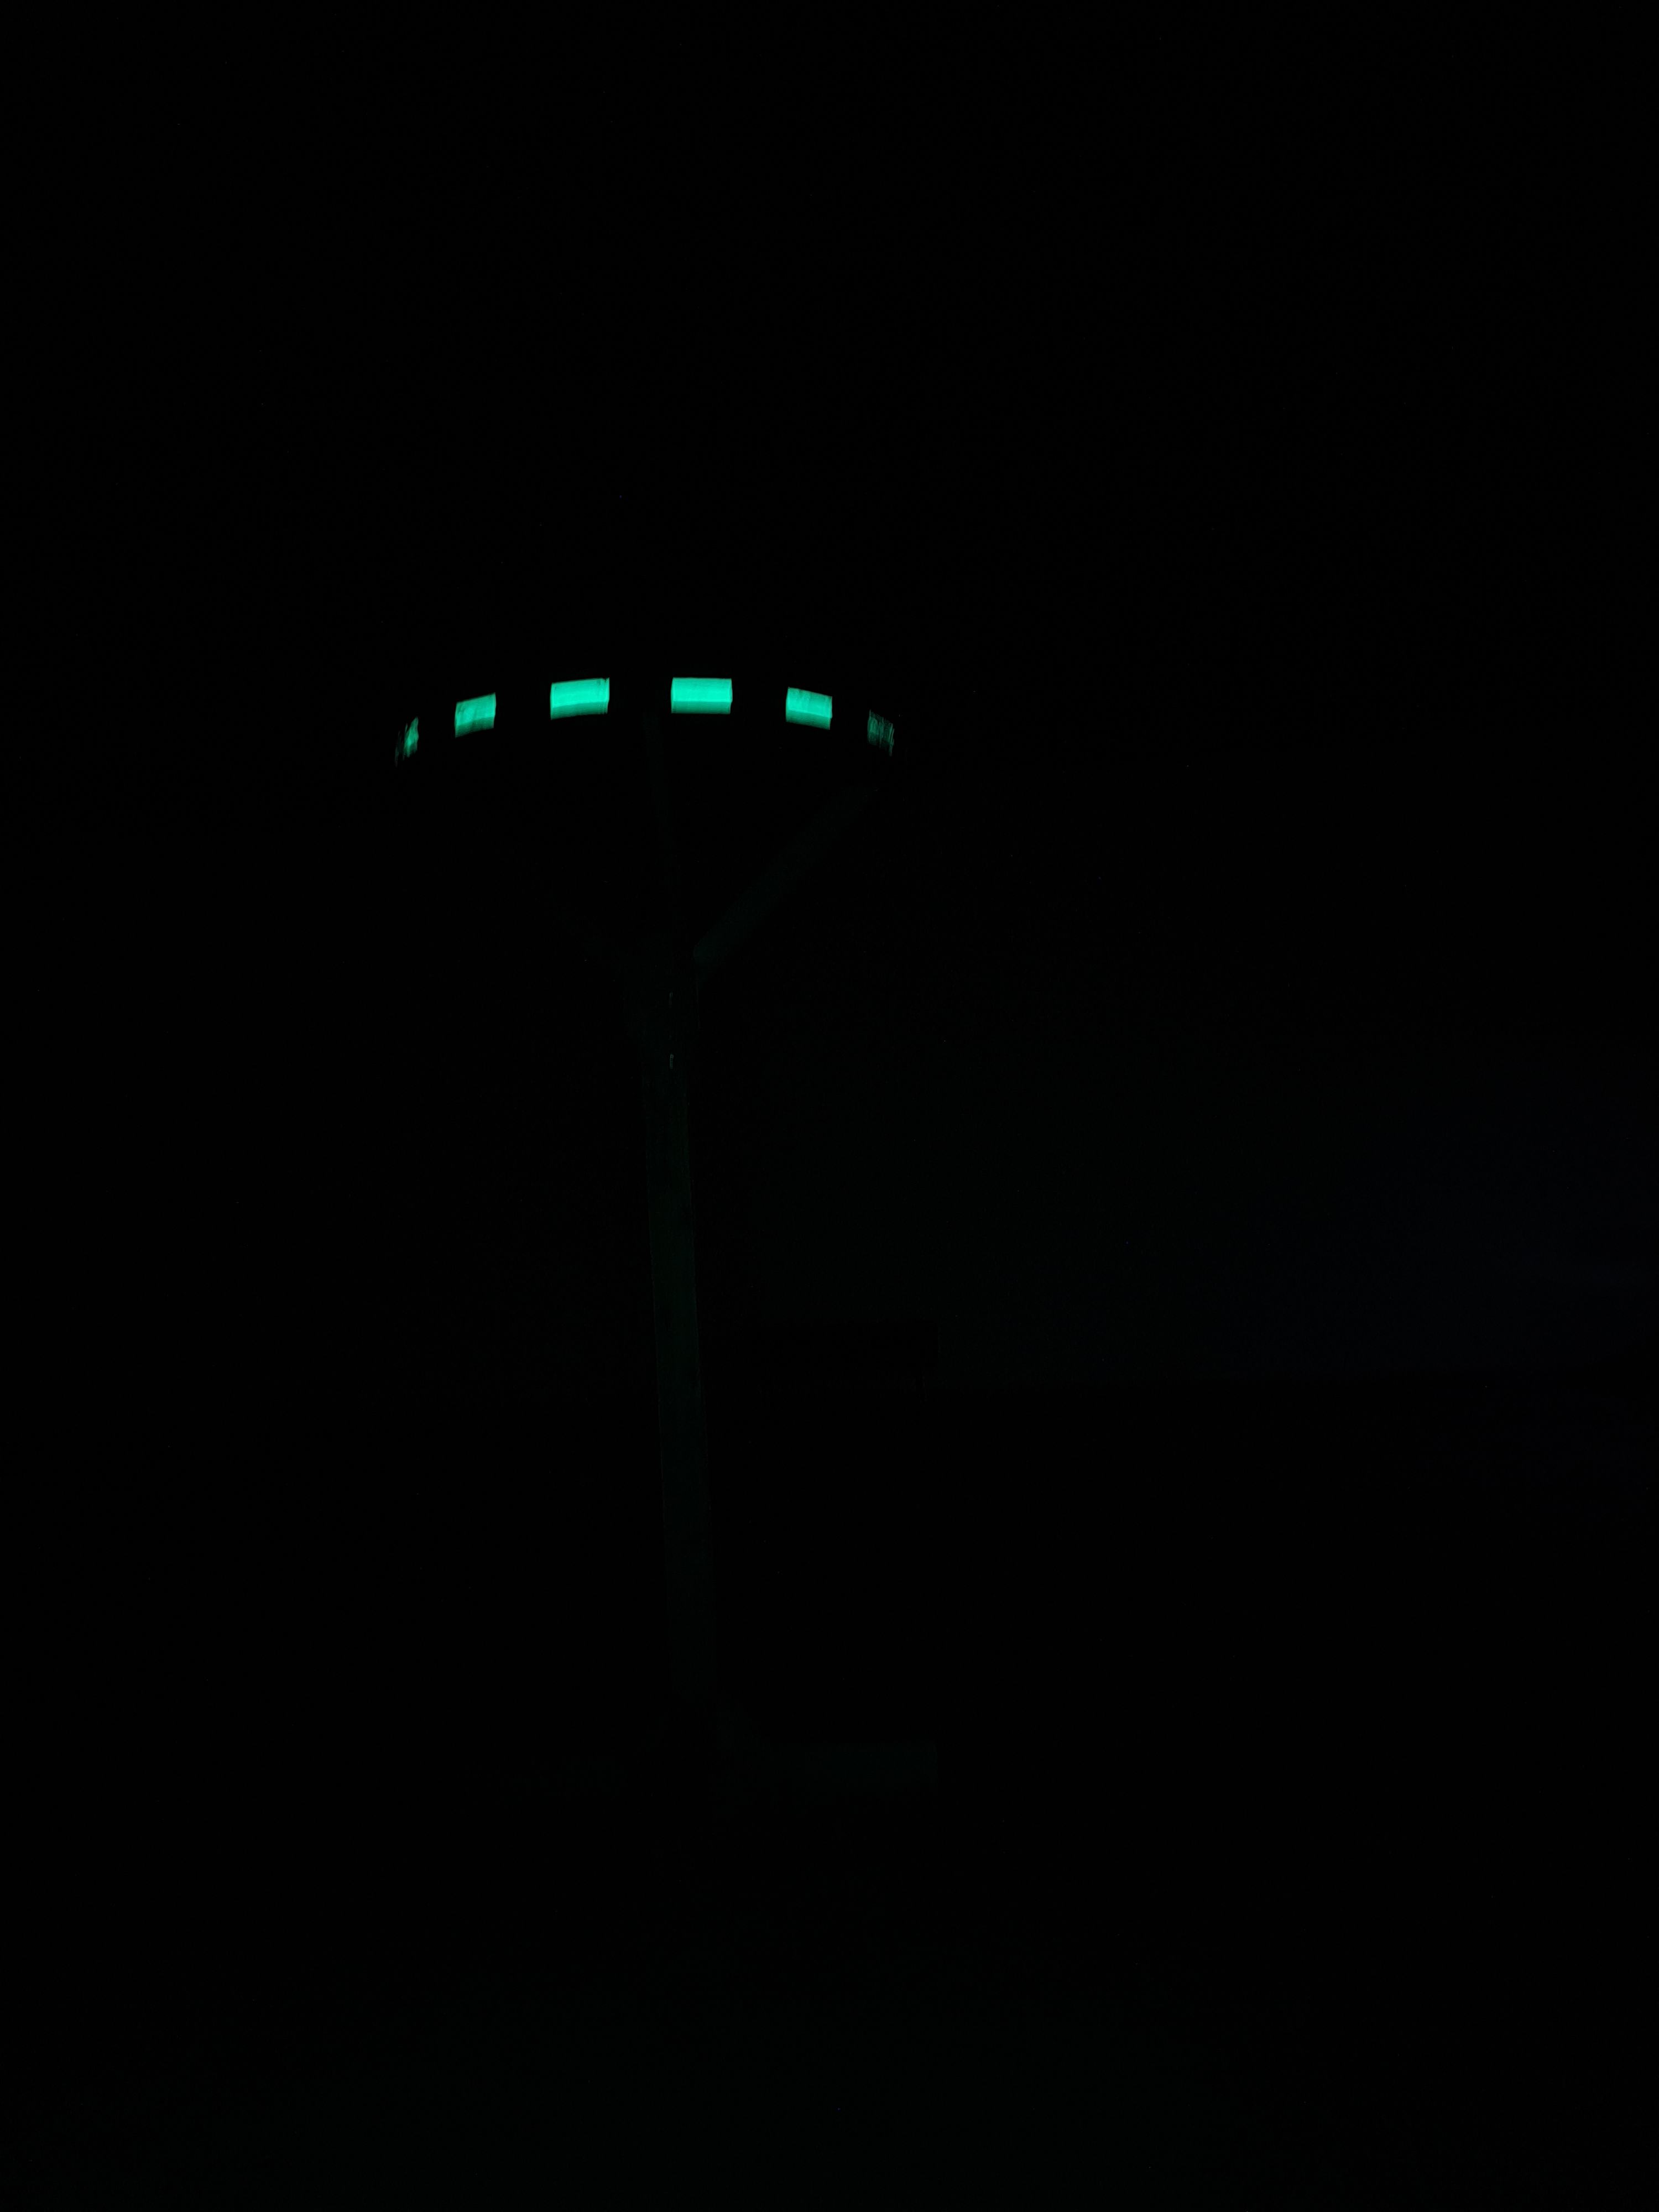hoop: (378, 669, 901, 780)
